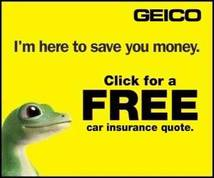Geico: (132, 4, 203, 27)
